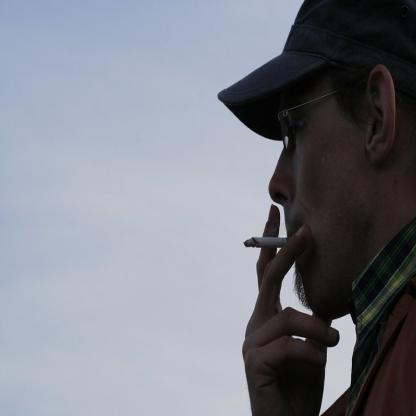smoking: (244, 237, 304, 248)
